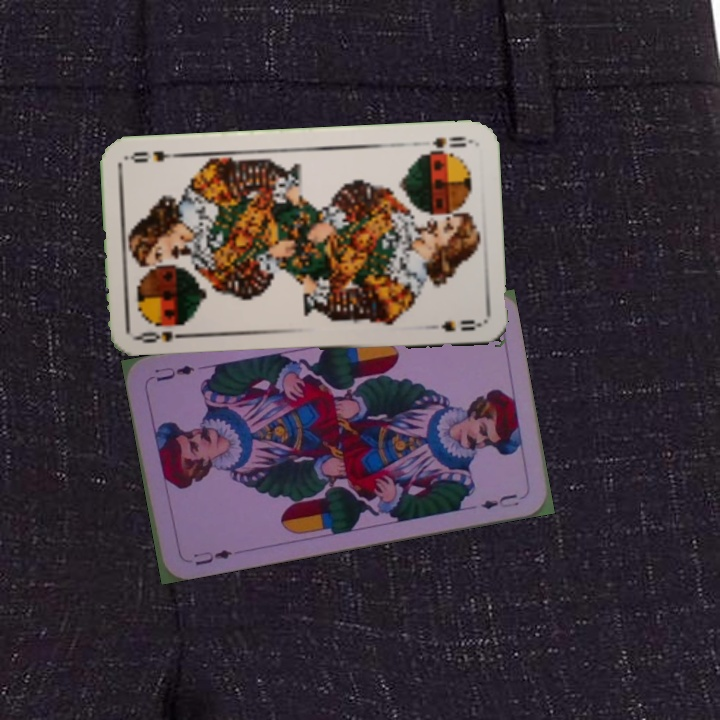EU: (189, 545, 235, 568)
SO: (133, 327, 192, 346), (425, 133, 473, 155)
